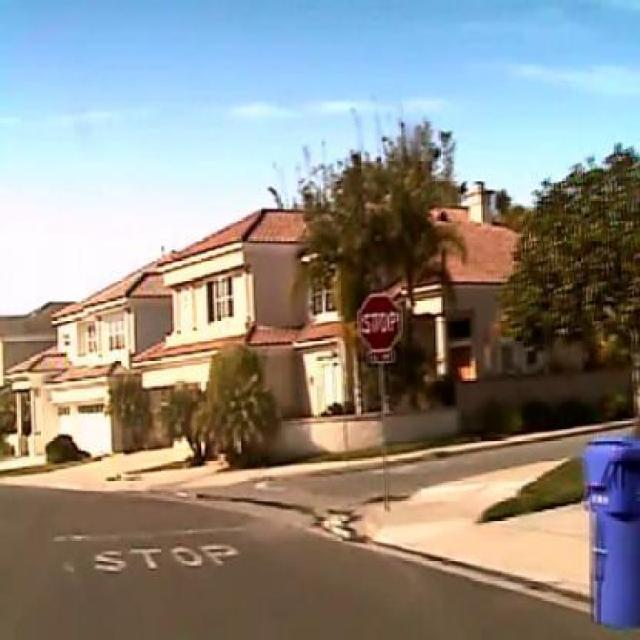stop: (356, 293, 402, 350)
